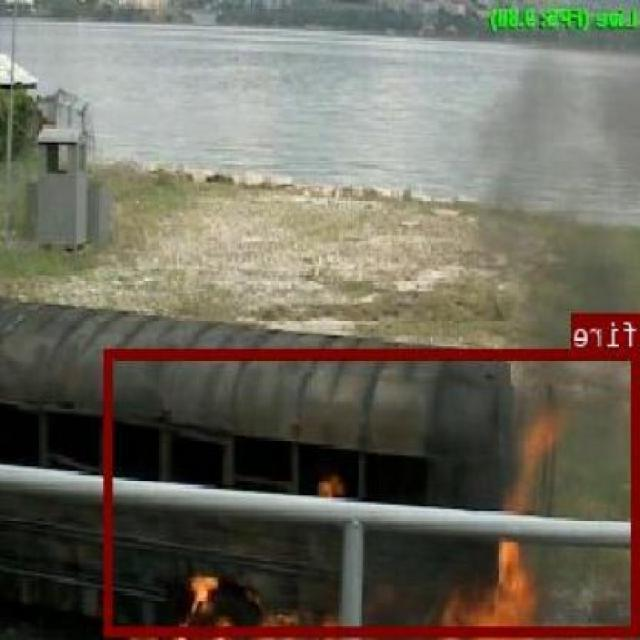Fire: (106, 348, 640, 632)
